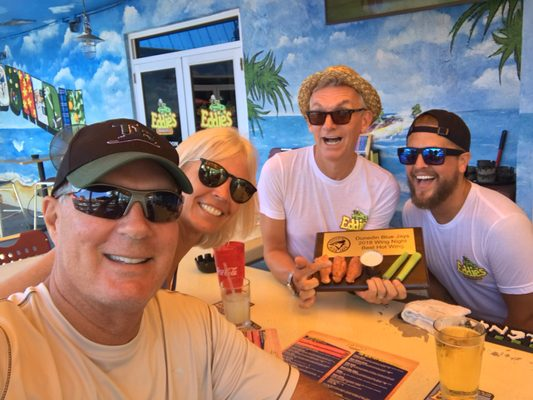pizza: (433, 318, 488, 397), (213, 241, 249, 326), (220, 278, 250, 327)
